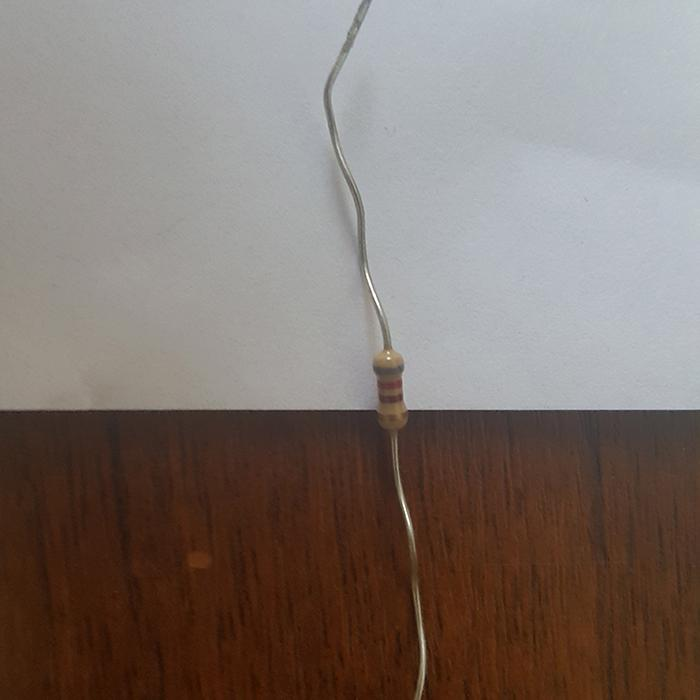resistor: (373, 348, 408, 429)
